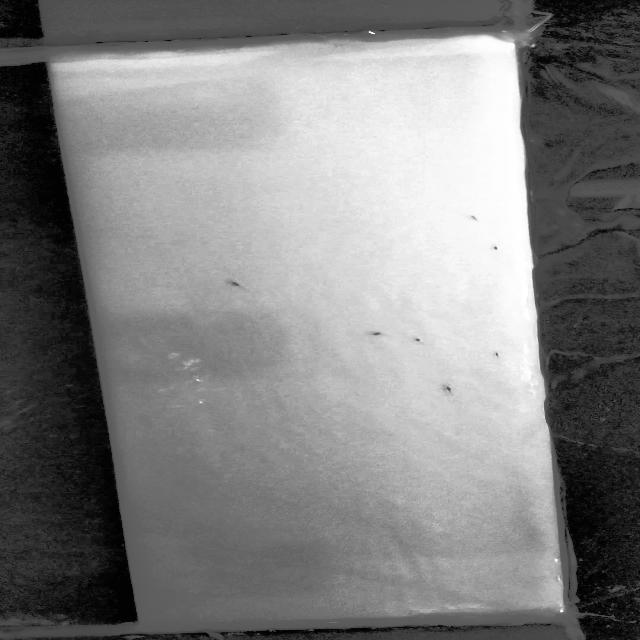shrimp: (230, 280, 263, 294), (361, 327, 397, 339), (443, 383, 461, 397), (406, 334, 426, 346), (464, 213, 484, 224), (485, 243, 506, 253), (494, 352, 510, 361)
